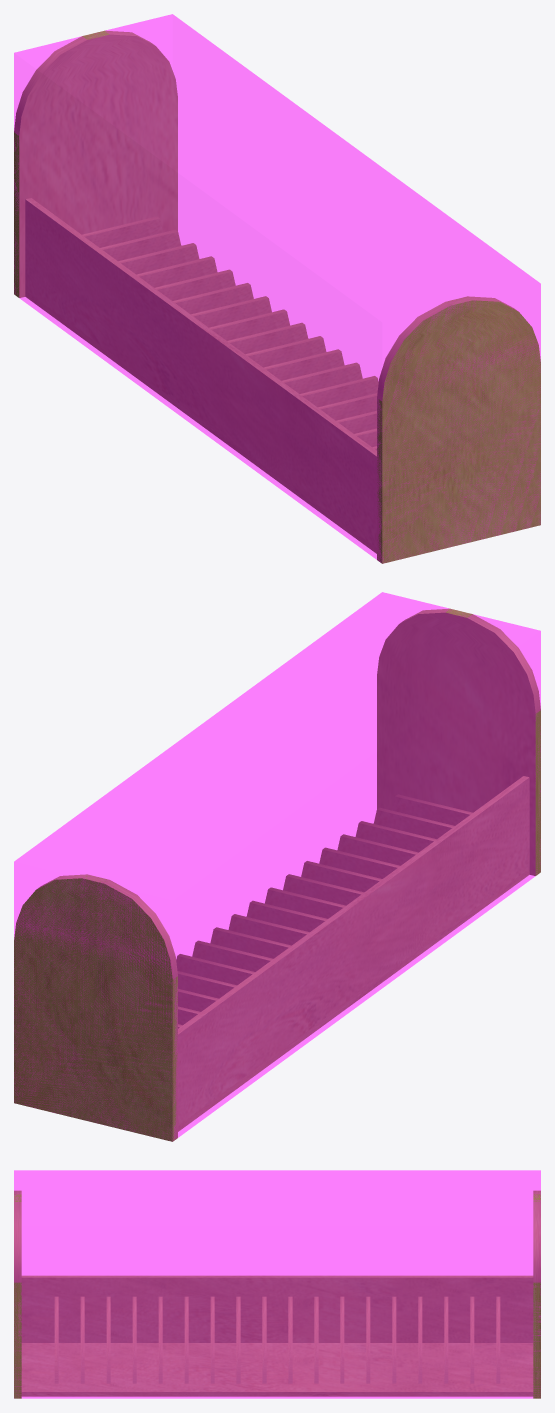
File: CDrack_B.fbx
3 views of the same model, one above another, from view 1: azimuth 30°, elevation 25°; view 2: azimuth 150°, elevation 25°; view 3: azimuth 270°, elevation 25° (orthographic). The views are drawn at different scales.
Visible parts, largest first — view 1: boundingbox, CDrack_B; view 2: boundingbox, CDrack_B; view 3: boundingbox, CDrack_B.
Part boxes in pixels (left/top/right/bottom): boundingbox: left=14, top=14, right=540, bottom=562; CDrack_B: left=14, top=30, right=540, bottom=563; boundingbox: left=14, top=592, right=540, bottom=1140; CDrack_B: left=14, top=608, right=540, bottom=1141; boundingbox: left=14, top=1170, right=540, bottom=1398; CDrack_B: left=14, top=1190, right=540, bottom=1398.
Size of the model in its own units: 7.57 by 11.02 by 30.44.
Materials: 2 (1 with a texture image).
